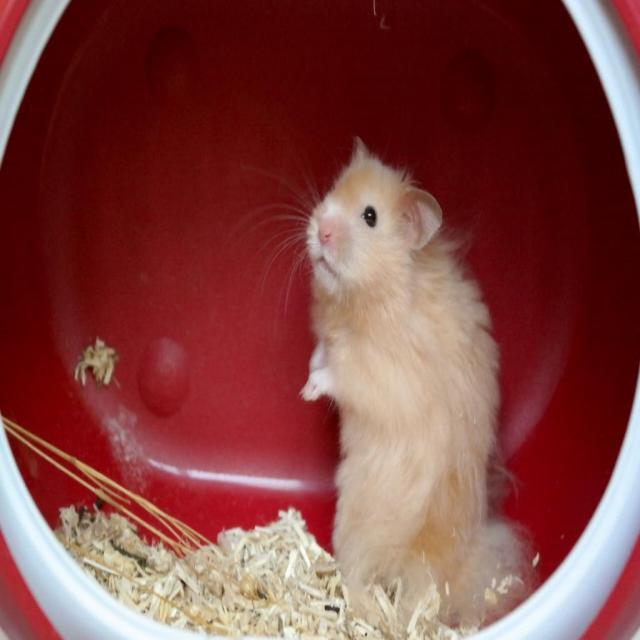rat: (298, 138, 504, 620)
